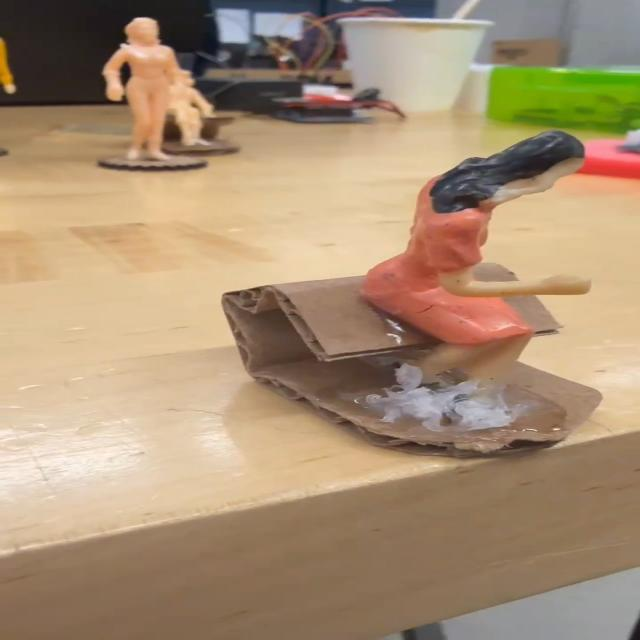Authorized: (350, 131, 601, 432)
